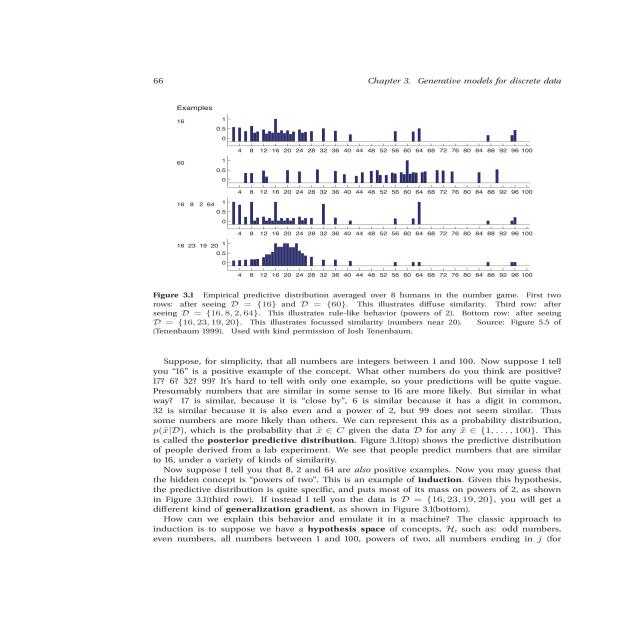diagram: (145, 97, 640, 342)
